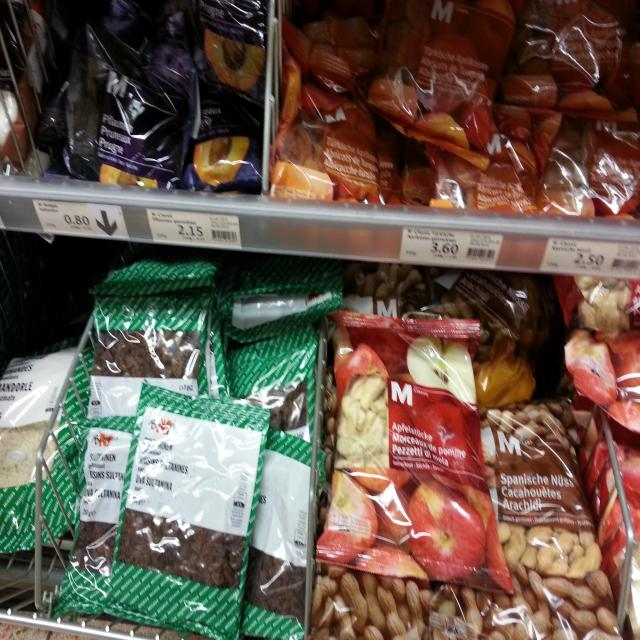DriedFruitsAndNuts: (322, 307, 511, 586), (432, 398, 622, 640), (104, 380, 272, 639), (373, 0, 509, 162), (510, 0, 640, 118), (189, 73, 261, 194), (194, 0, 265, 101)
